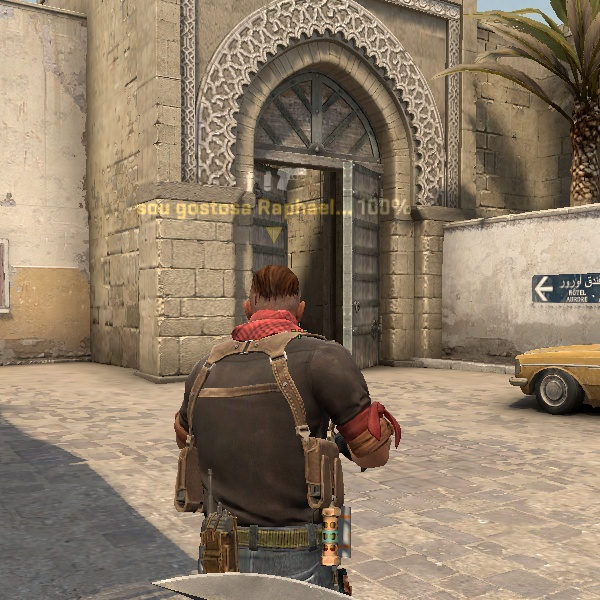t_body: (145, 266, 425, 597)
t_head: (210, 248, 332, 366)
